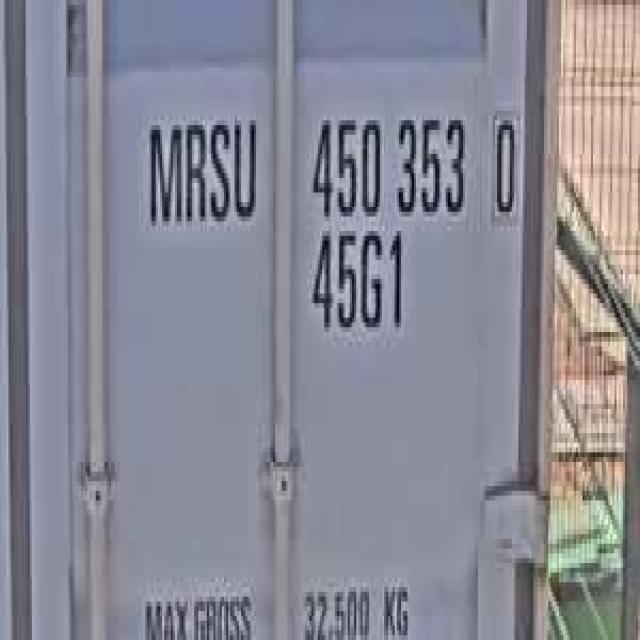dv: (490, 105, 521, 230)
owner: (140, 111, 262, 235)
serial: (309, 111, 469, 224)
size: (308, 228, 411, 342)
